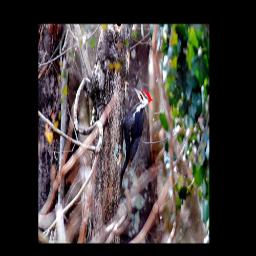Woodpecker: (120, 87, 155, 189)
